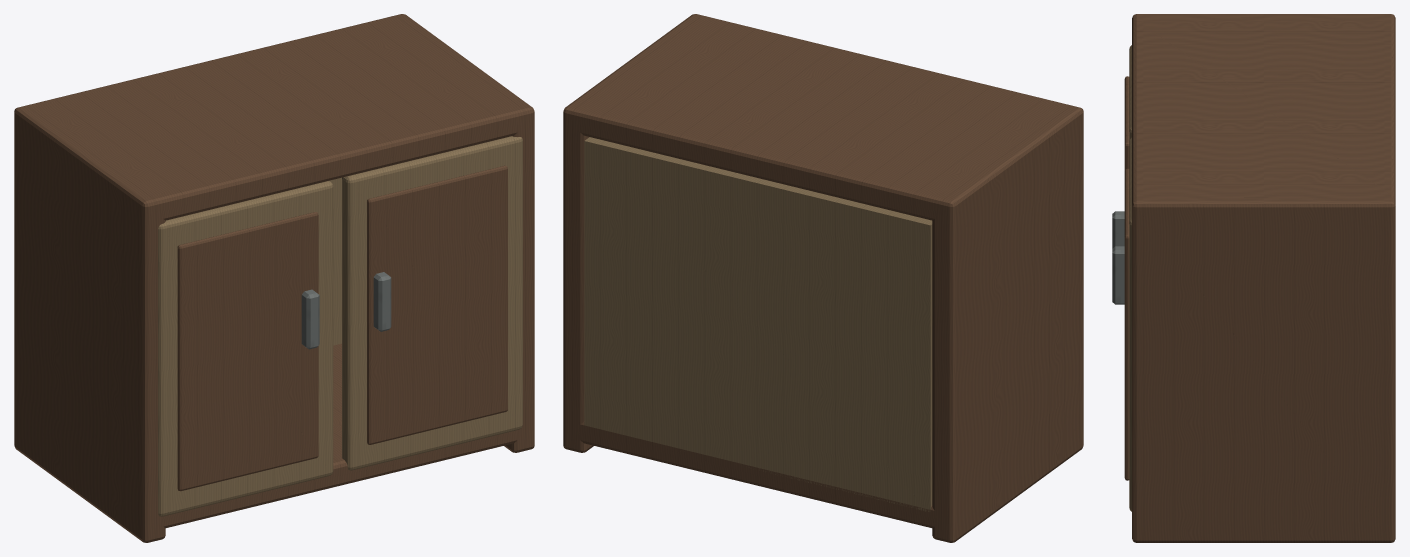
The model's file is cabinet.glb.
3 views of the same model, side by side, from view 1: azimuth 30°, elevation 25°; view 2: azimuth 150°, elevation 25°; view 3: azimuth 270°, elevation 25° (orthographic).
Parts seen in each view (by area): view 1: DD_Cabinet_Rail.001, DD_Cabinet_Side, DD_Cabinet_Inset, DD_Cabinet_Inset.001, DD_Cabinet_Panel.001, DD_Cabinet_Panel, DD_Cabinet_Side.001, DD_Cabinet_Rail, DD_Cabinet_Back, DD_Cabinet_Pull.001, DD_Cabinet_Pull; view 2: DD_Cabinet_Back, DD_Cabinet_Side, DD_Cabinet_Rail.001, DD_Cabinet_Side.001, DD_Cabinet_Rail; view 3: DD_Cabinet_Side.001, DD_Cabinet_Rail.001, DD_Cabinet_Side, DD_Cabinet_Inset.001, DD_Cabinet_Panel.001, DD_Cabinet_Pull.001, DD_Cabinet_Inset, DD_Cabinet_Pull.
Part boxes in pixels (bbox=[...]): DD_Cabinet_Rail.001: bbox=[33, 17, 517, 220]; DD_Cabinet_Side: bbox=[14, 104, 165, 542]; DD_Cabinet_Inset: bbox=[177, 212, 318, 491]; DD_Cabinet_Inset.001: bbox=[367, 165, 507, 444]; DD_Cabinet_Panel.001: bbox=[342, 136, 522, 470]; DD_Cabinet_Panel: bbox=[158, 181, 333, 516]; DD_Cabinet_Side.001: bbox=[387, 14, 534, 452]; DD_Cabinet_Rail: bbox=[161, 343, 517, 528]; DD_Cabinet_Back: bbox=[329, 177, 341, 345]; DD_Cabinet_Pull.001: bbox=[373, 272, 391, 331]; DD_Cabinet_Pull: bbox=[301, 289, 319, 349]; DD_Cabinet_Back: bbox=[584, 137, 932, 511]; DD_Cabinet_Side: bbox=[932, 104, 1083, 542]; DD_Cabinet_Rail.001: bbox=[578, 17, 1064, 220]; DD_Cabinet_Side.001: bbox=[563, 14, 710, 452]; DD_Cabinet_Rail: bbox=[578, 422, 936, 528]; DD_Cabinet_Side.001: bbox=[1132, 194, 1395, 542]; DD_Cabinet_Rail.001: bbox=[1132, 21, 1395, 197]; DD_Cabinet_Side: bbox=[1132, 14, 1395, 24]; DD_Cabinet_Inset.001: bbox=[1124, 168, 1129, 480]; DD_Cabinet_Panel.001: bbox=[1129, 137, 1131, 511]; DD_Cabinet_Pull.001: bbox=[1112, 246, 1124, 304]; DD_Cabinet_Inset: bbox=[1124, 76, 1129, 170]; DD_Cabinet_Pull: bbox=[1112, 211, 1124, 248].
Size of the model in its own units: 1.2 by 1 by 0.7525.
Materials: 3 (3 with a texture image).
